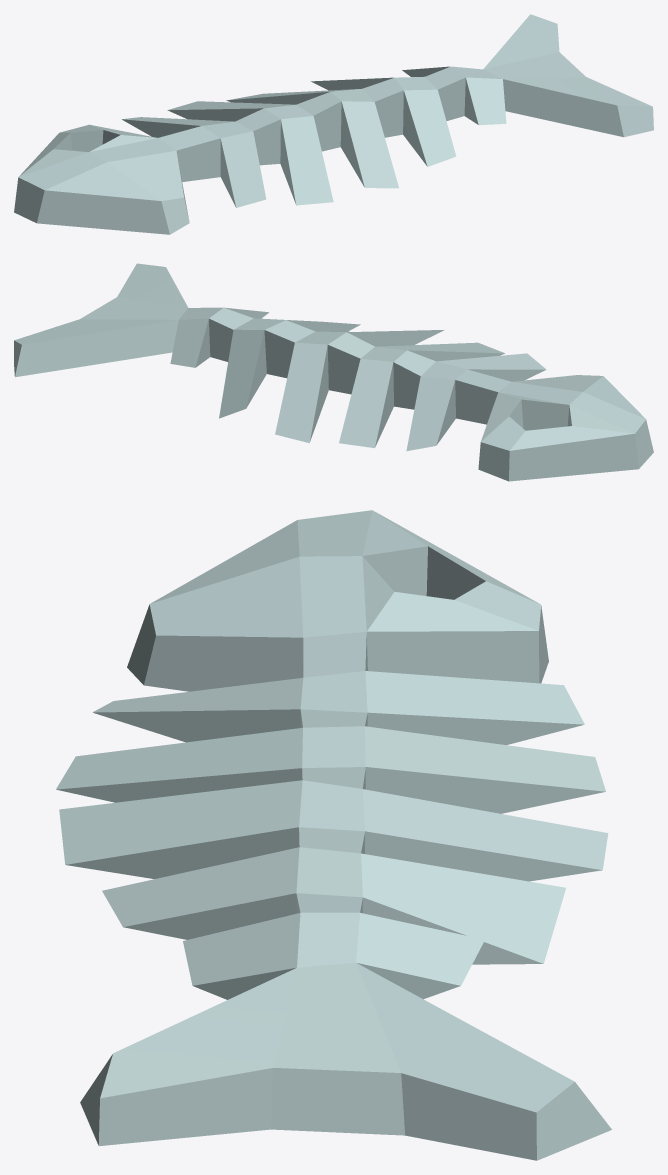
The model's file is food_fish-bone.fbx.
3 renders of one model, top to bottom at view 1: azimuth 30°, elevation 25°; view 2: azimuth 150°, elevation 25°; view 3: azimuth 270°, elevation 25°, orthographic. The views are drawn at different scales.
Parts seen in each view (by area): view 1: food_fish_bone; view 2: food_fish_bone; view 3: food_fish_bone.
Boxes of the visible parts, left/top/right/bottom form: food_fish_bone: left=14, top=14, right=653, bottom=234; food_fish_bone: left=14, top=263, right=653, bottom=481; food_fish_bone: left=56, top=510, right=611, bottom=1160.
Size of the model in its own units: 200 by 20.49 by 82.53.
